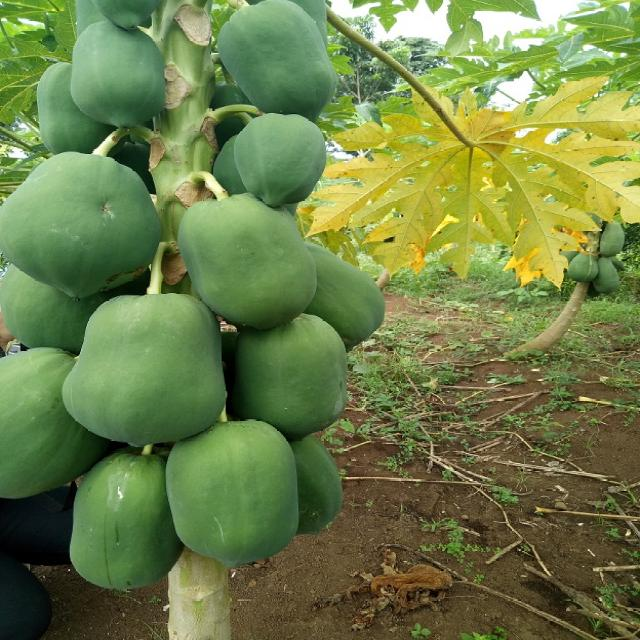Pepaya unrippen: (64, 295, 222, 448), (1, 150, 156, 298), (184, 197, 315, 325), (173, 440, 304, 568), (210, 1, 349, 117), (60, 458, 166, 592), (239, 330, 356, 436), (64, 23, 168, 138), (232, 114, 331, 208), (596, 218, 625, 260), (594, 262, 620, 298), (565, 254, 594, 281)
